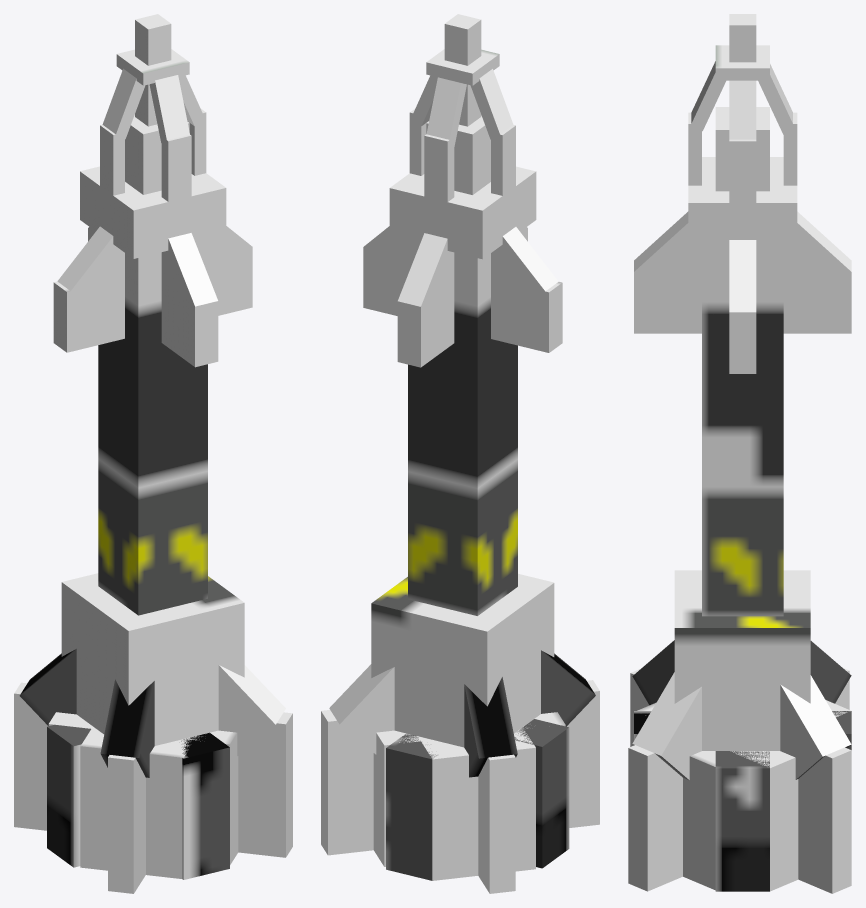
File: missile_potion.obj
3 views of the same model, side by side, from view 1: azimuth 30°, elevation 25°; view 2: azimuth 150°, elevation 25°; view 3: azimuth 270°, elevation 25° (orthographic).
Parts seen in each view (by area): view 1: Shape36, Shape4a, Shape3, Shape1, Shape5a, Shape12, Shape13, Shape11a, Shape4, Shape2e, Shape11b, Shape14 (+13 smaller); view 2: Shape36, Shape4a, Shape4, Shape2, Shape5a, Shape11a, Shape12, Shape14, Shape3, Shape2e, Shape10b, Shape13 (+13 smaller); view 3: Shape36, Shape4a, Shape11b, Shape2e, Shape4, Shape3, Shape5a, Shape14, Shape13, Shape2, Shape1, Shape10b.001 (+13 smaller).
Part boxes in pixels (x1,y1,x2,y2): Shape36: (98,241,207,615); Shape4a: (61,573,244,745); Shape3: (14,682,292,857); Shape1: (80,726,190,878); Shape5a: (80,166,226,258); Shape12: (181,732,229,879); Shape13: (19,649,285,755); Shape11a: (53,247,252,352); Shape4: (108,755,145,893); Shape2e: (47,724,90,867); Shape11b: (88,228,218,367); Shape14: (100,679,154,777); Shape36: (408,241,517,615); Shape4a: (371,573,554,747); Shape4: (321,680,599,855); Shape2: (418,728,535,880); Shape5a: (389,166,536,259); Shape11a: (363,247,562,352); Shape12: (386,733,437,880); Shape14: (329,650,595,754); Shape3: (478,754,515,893); Shape2e: (514,719,569,868); Shape10b: (398,233,454,337); Shape13: (464,677,517,777); Shape36: (702,252,783,616); Shape4a: (674,570,810,750); Shape11b: (634,272,851,333); Shape2e: (715,751,769,891); Shape4: (630,668,851,893); Shape3: (628,668,849,891); Shape5a: (688,157,797,252); Shape14: (632,640,851,779); Shape13: (632,641,851,780); Shape2: (683,700,851,890); Shape1: (637,703,798,891); Shape10b.001: (634,211,701,323).
Size of the model in its own units: 1.04 by 4.19 by 1.03.
